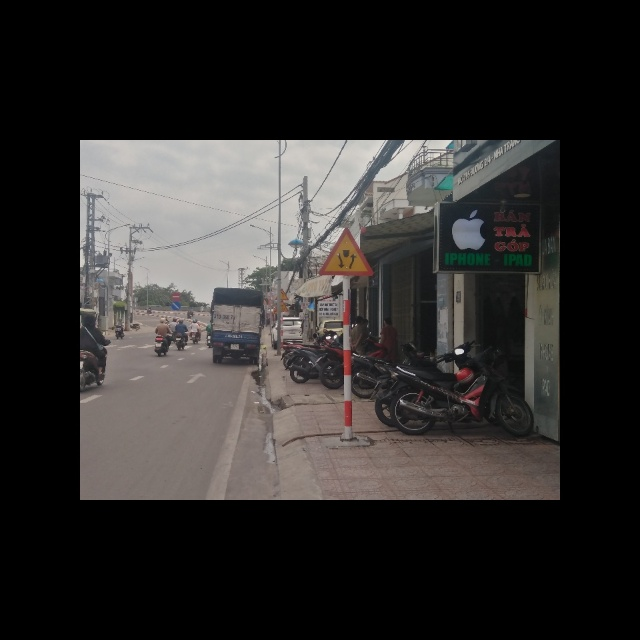Đường đôi: (317, 226, 374, 279)
